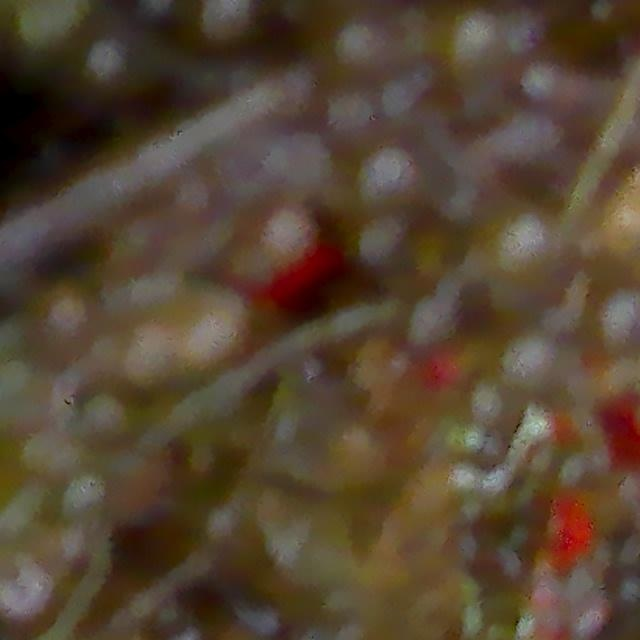SeaGrape: (495, 204, 560, 285), (37, 285, 102, 361), (71, 44, 137, 110), (353, 143, 432, 196), (190, 0, 264, 52), (360, 224, 422, 284), (327, 15, 395, 66), (439, 29, 504, 77), (597, 297, 640, 356)
